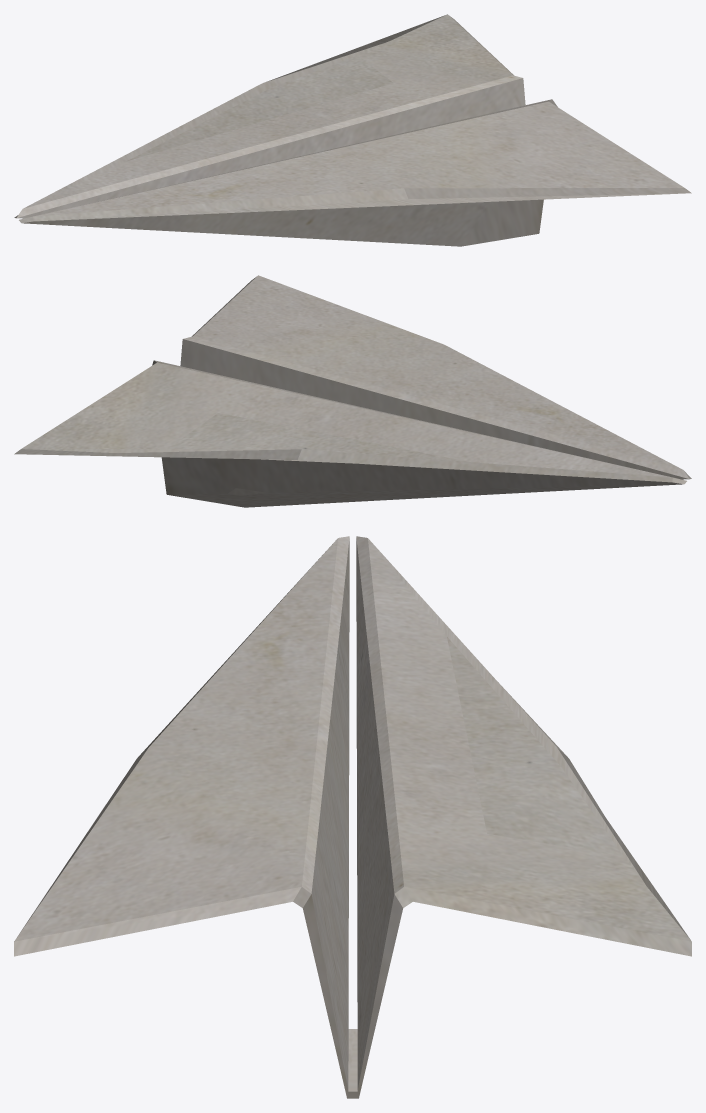
The model's file is paperPlane.fbx.
3 views of the same model, one above another, from view 1: azimuth 30°, elevation 25°; view 2: azimuth 150°, elevation 25°; view 3: azimuth 270°, elevation 25° (orthographic). The views are drawn at different scales.
Parts seen in each view (by area): view 1: paperPlane; view 2: paperPlane; view 3: paperPlane.
Boxes of the visible parts, x1,y1,x2,y2 form: paperPlane: (14, 14, 691, 246); paperPlane: (14, 275, 691, 507); paperPlane: (14, 536, 691, 1098).
Size of the model in its own units: 27.62 by 6.94 by 20.42.
